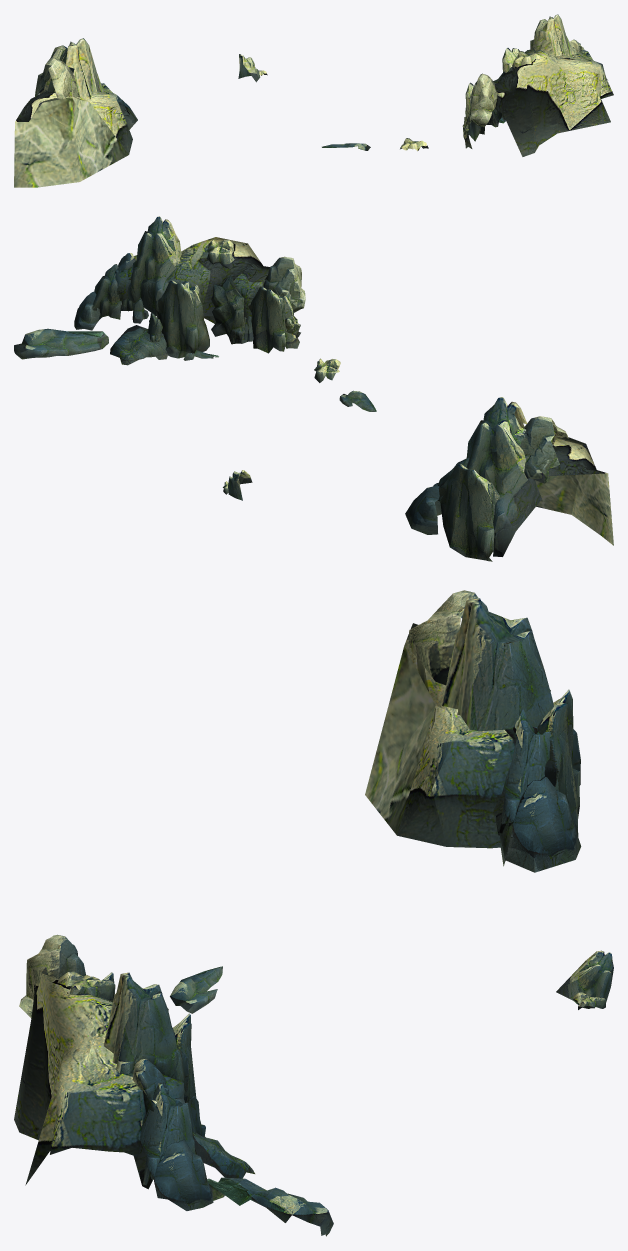
File: Bf01g_hill_1v1.fbx
The picture shows the model from 3 angles, top to bottom: view 1: azimuth 30°, elevation 25°; view 2: azimuth 150°, elevation 25°; view 3: azimuth 270°, elevation 25°; orthographic projection. The views are drawn at different scales.
Visible parts, largest first — view 1: Bf_hill; view 2: Bf_hill; view 3: Bf_hill.
Boxes of the visible parts, box(x1,y1,x2,y2) form: Bf_hill: box(14, 14, 613, 187); Bf_hill: box(14, 216, 613, 561); Bf_hill: box(14, 590, 613, 1236).
Size of the model in its own units: 507 by 110 by 250.
Materials: 1 (1 with a texture image).
